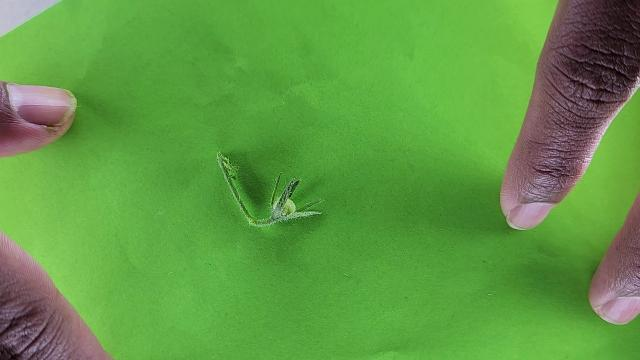Fruit Bud: (266, 175, 324, 225)
